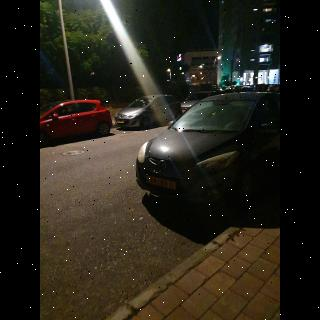LicensePlate: (147, 176, 178, 190)
